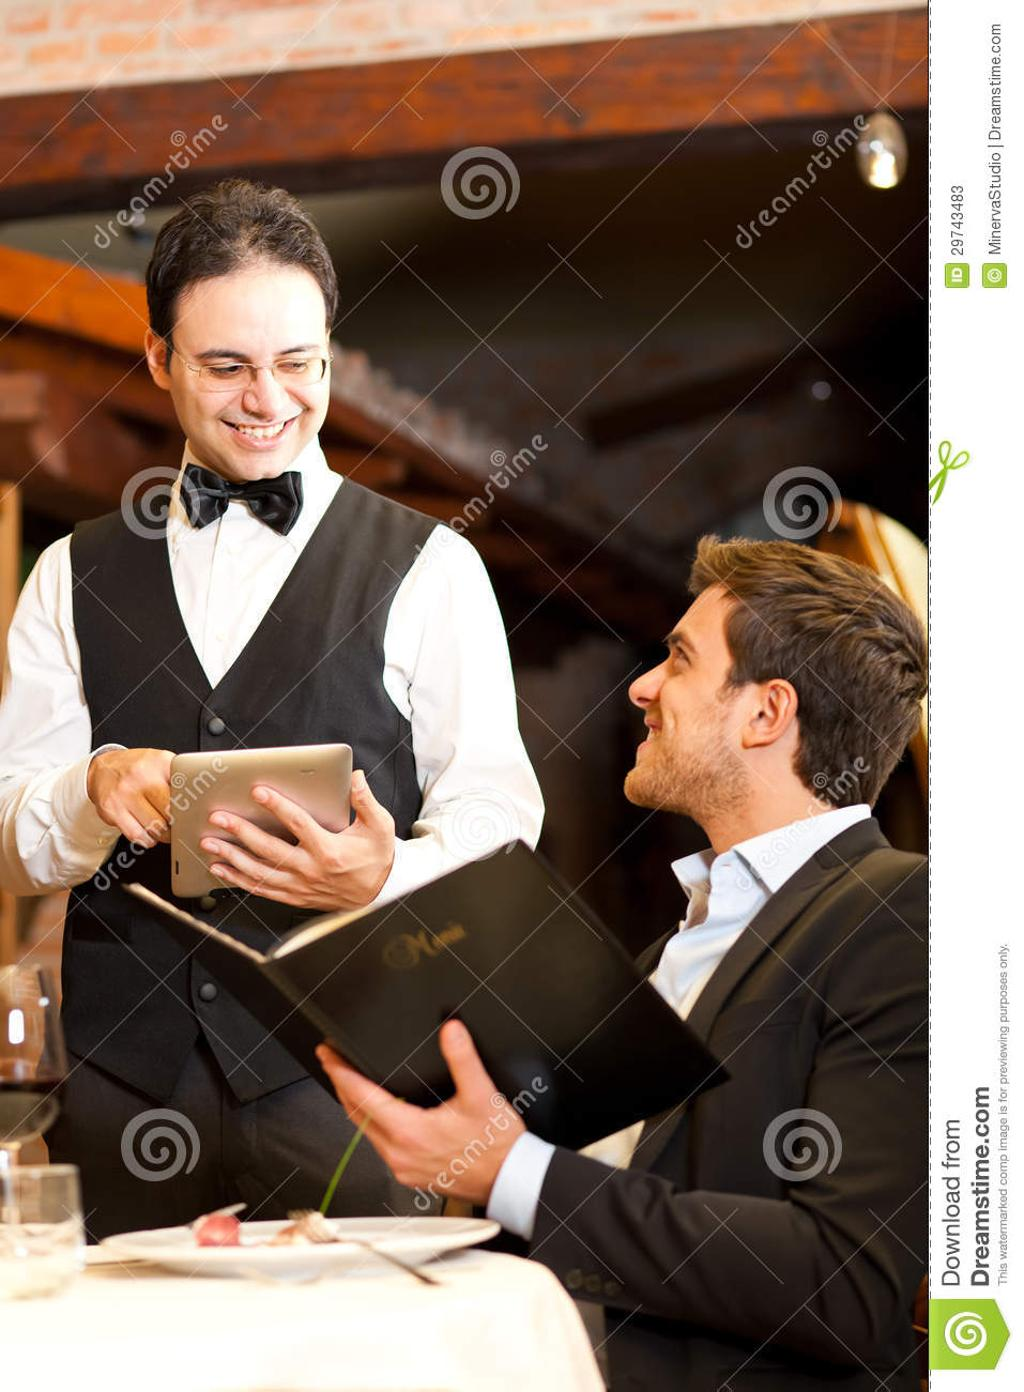face: (166, 263, 329, 486), (622, 581, 755, 806)
